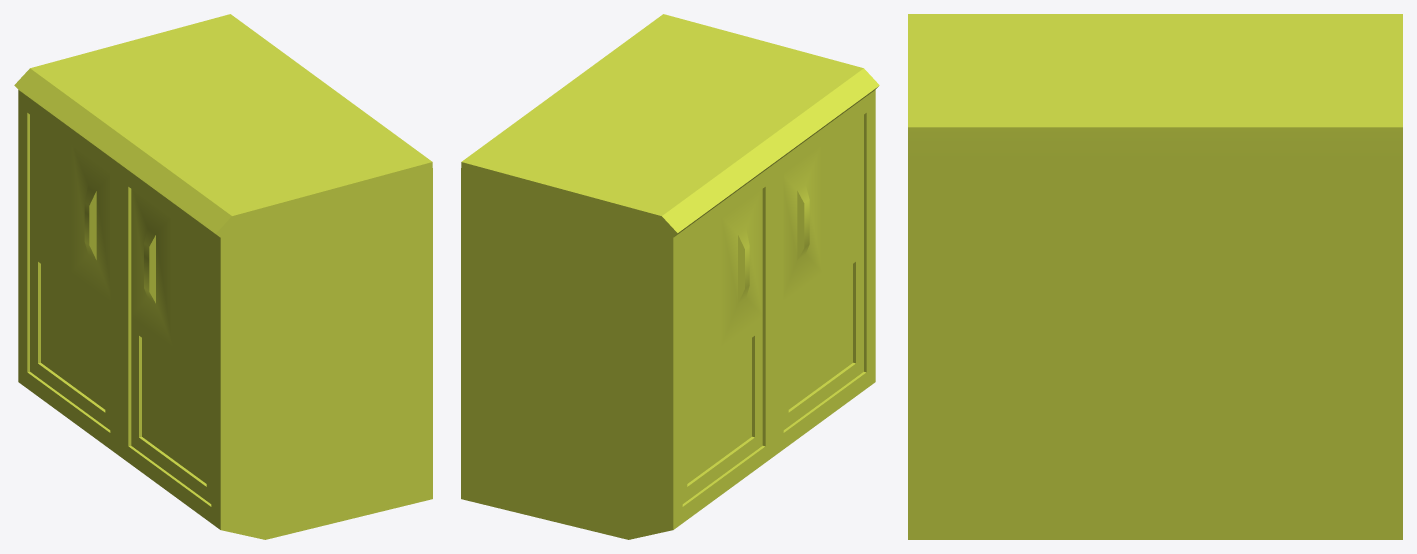
Rendered from keukenkasyn.fbx.
3 views of the same model, side by side, from view 1: azimuth 30°, elevation 25°; view 2: azimuth 150°, elevation 25°; view 3: azimuth 270°, elevation 25° (orthographic). The views are drawn at different scales.
Parts seen in each view (by area): view 1: Cube.003; view 2: Cube.003; view 3: Cube.003.
Part boxes in pixels (x1=…): Cube.003: x1=14, y1=14, x2=432, y2=539; Cube.003: x1=461, y1=14, x2=879, y2=539; Cube.003: x1=908, y1=14, x2=1402, y2=539.
Bounding box in the file's own units: 0.7106 × 1.06 × 1.15.
